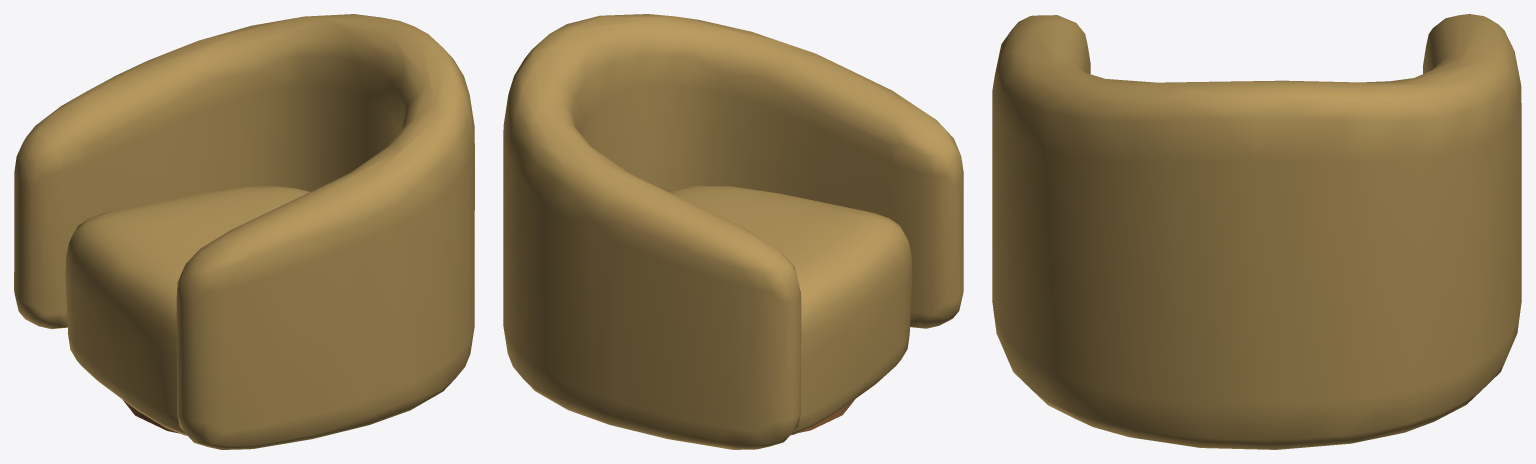
File: armchair_04_golden.fbx
3 renders of one model, left to right at view 1: azimuth 30°, elevation 25°; view 2: azimuth 150°, elevation 25°; view 3: azimuth 270°, elevation 25°, orthographic. The views are drawn at different scales.
Parts seen in each view (by area): view 1: armchair_04_golden; view 2: armchair_04_golden; view 3: armchair_04_golden.
Part boxes in pixels (box(x1,y1,x2,y2)): armchair_04_golden: box(14, 14, 474, 449); armchair_04_golden: box(503, 14, 963, 449); armchair_04_golden: box(992, 14, 1521, 449).
Size of the model in its own units: 115 by 99.69 by 122.
Materials: 2 (2 with a texture image).
